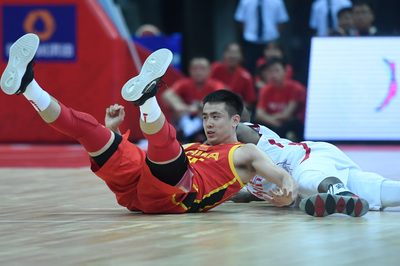fall: (217, 93, 400, 226)
